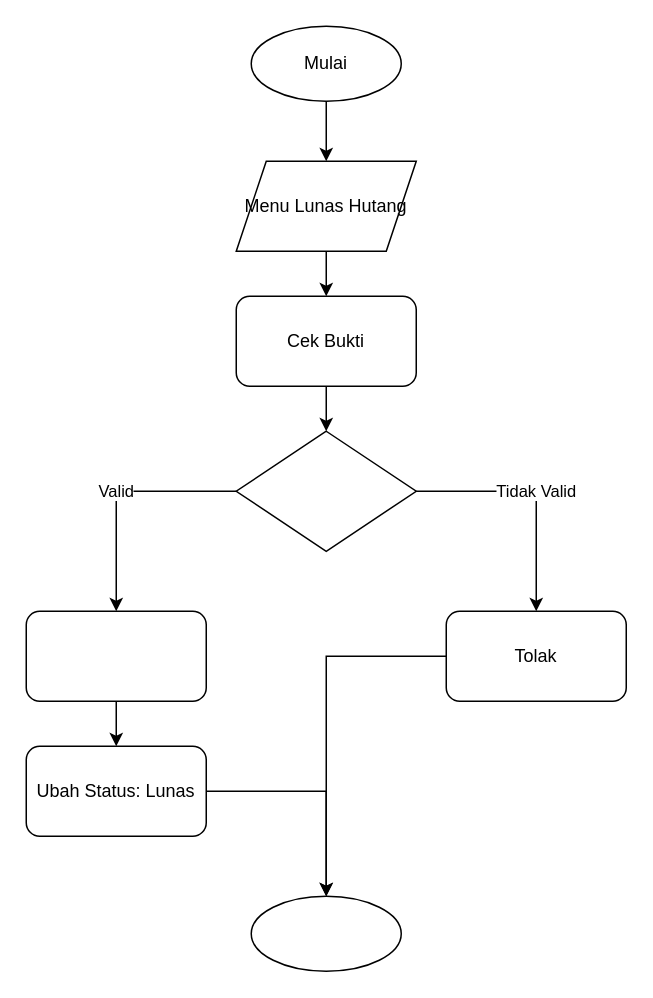
Some shapes in this 653 by 998 pixel diagram are drawn without their labels. Here are the shapes that lost their labels. From the top down, the centre of each, then its label:
(325,490): Validasi?
(115,655): Terima
(325,933): Selesai
